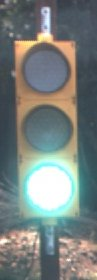Green: (4, 14, 84, 255)
